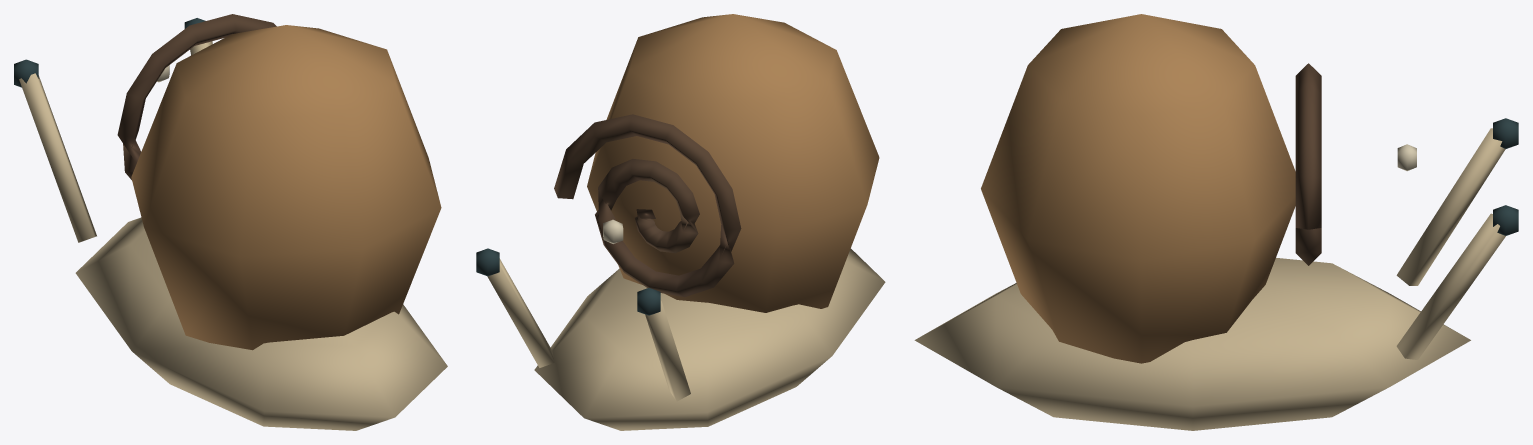
File: insect_snail_low.glb
3 renders of one model, left to right at view 1: azimuth 30°, elevation 25°; view 2: azimuth 150°, elevation 25°; view 3: azimuth 270°, elevation 25°, orthographic. The views are drawn at different scales.
Bounding box in the file's own units: 0.08 × 0.1 × 0.141.
